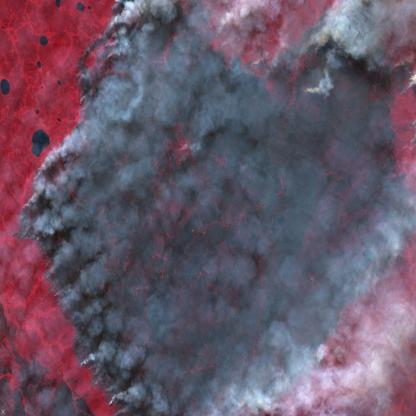fire: (9, 173, 123, 411), (61, 0, 136, 165), (247, 0, 336, 102)
